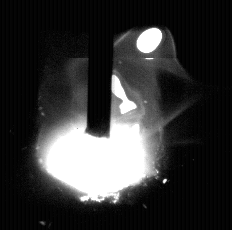arame: (87, 0, 112, 138)
poca: (34, 0, 166, 230)
